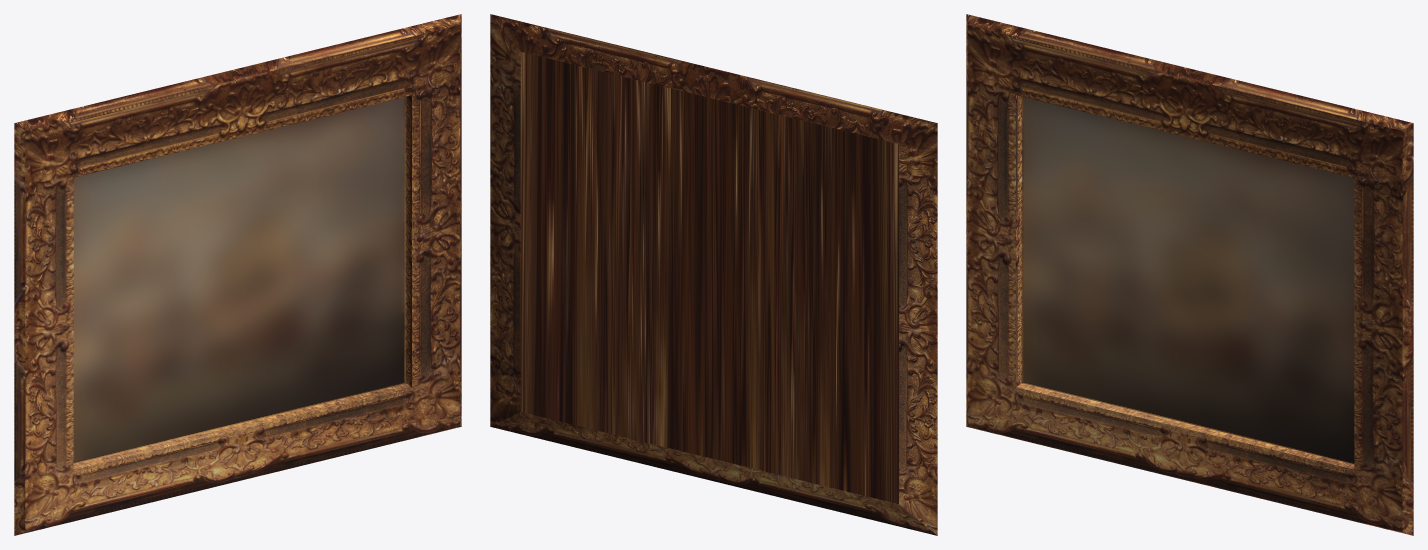
Rendered from quadro 008.fbx.
3 renders of one model, left to right at view 1: azimuth 30°, elevation 25°; view 2: azimuth 150°, elevation 25°; view 3: azimuth 330°, elevation 25°, orthographic.
Visible parts, largest first — view 1: quadro 008; view 2: quadro 008; view 3: quadro 008.
Boxes of the visible parts, box(x1,y1,x2,y2) form: quadro 008: box(14, 14, 461, 535); quadro 008: box(490, 14, 937, 535); quadro 008: box(966, 14, 1413, 535).
Size of the model in its own units: 120 by 106 by 4.19.
